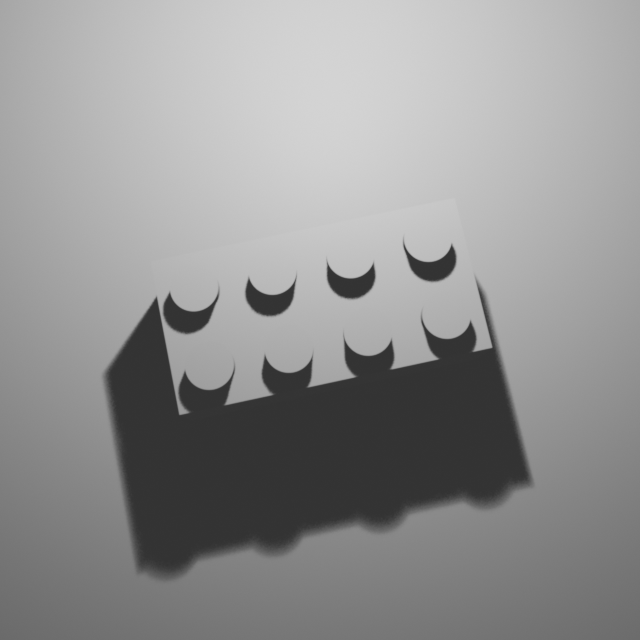lego_2x4: (148, 193, 495, 420)
